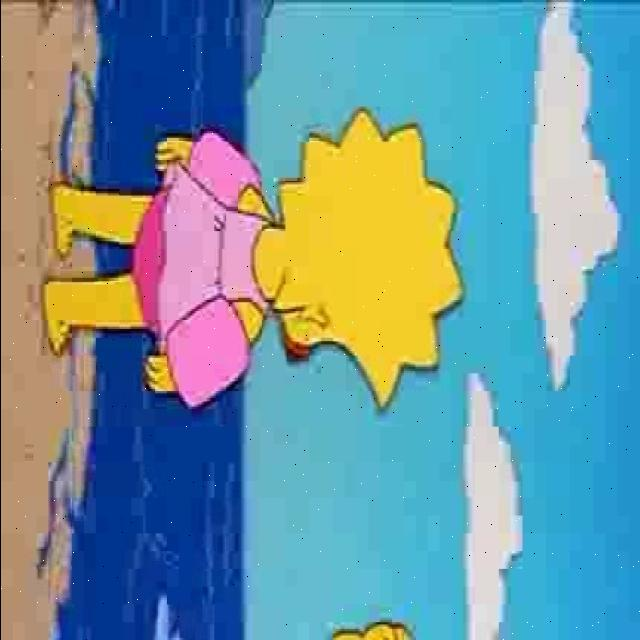Maggie Simpson: (252, 104, 466, 416)
